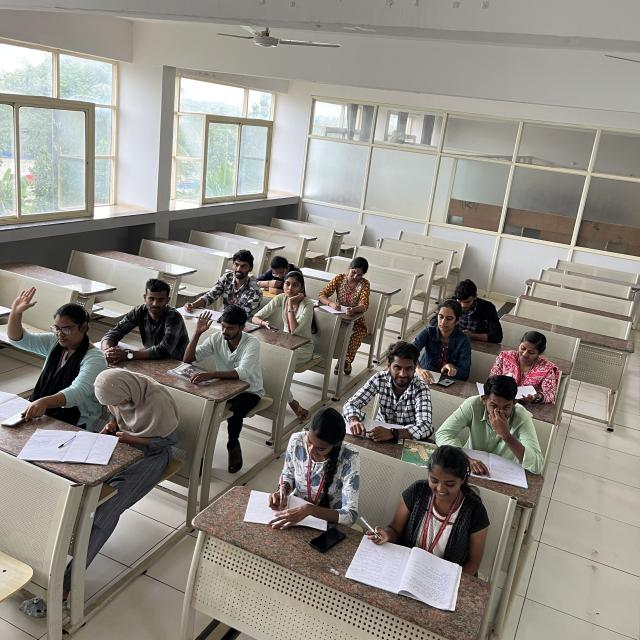Hand Rising: (4, 281, 93, 405), (186, 308, 252, 381)
Reading: (478, 329, 560, 401), (414, 302, 467, 378)
Using Phone: (86, 365, 178, 444), (429, 276, 502, 342), (253, 272, 316, 337)
Writing: (357, 443, 463, 580), (244, 409, 370, 524), (180, 248, 260, 321), (319, 254, 369, 314)
